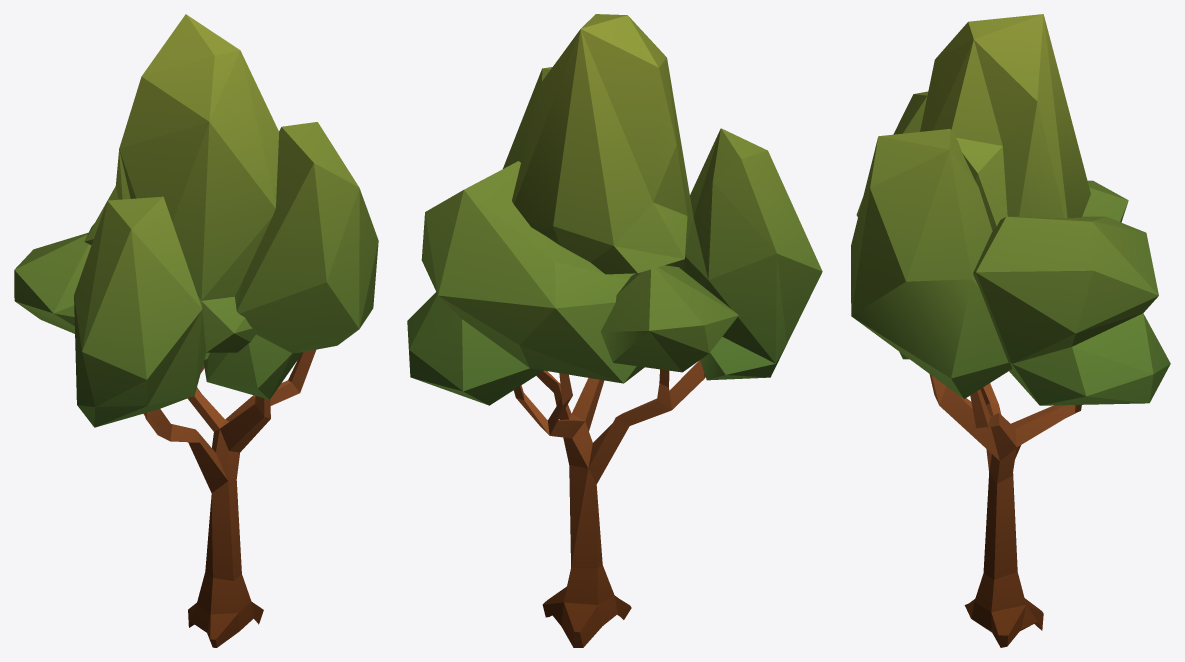
The model's file is tree_01.fbx.
3 views of the same model, side by side, from view 1: azimuth 30°, elevation 25°; view 2: azimuth 150°, elevation 25°; view 3: azimuth 270°, elevation 25° (orthographic).
Visible parts, largest first — view 1: tree_01.002; view 2: tree_01.002; view 3: tree_01.002.
Part boxes in pixels (left/top/right/bottom): tree_01.002: left=14, top=14, right=378, bottom=647; tree_01.002: left=407, top=14, right=822, bottom=647; tree_01.002: left=851, top=14, right=1170, bottom=647.
Size of the model in its own units: 4.47 by 8.23 by 3.85.
